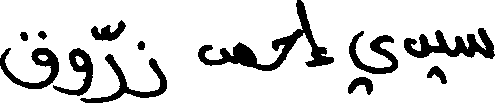أ: (301, 0, 332, 67)
ح: (271, 28, 302, 71)
د: (399, 31, 429, 59), (197, 43, 228, 67)
ر: (91, 50, 126, 101)
ز: (125, 40, 169, 98)
س: (455, 26, 494, 59)
ق: (0, 29, 59, 92)
م: (232, 40, 256, 69)
و: (57, 25, 91, 102)
ي: (346, 29, 396, 95), (427, 28, 446, 84)
